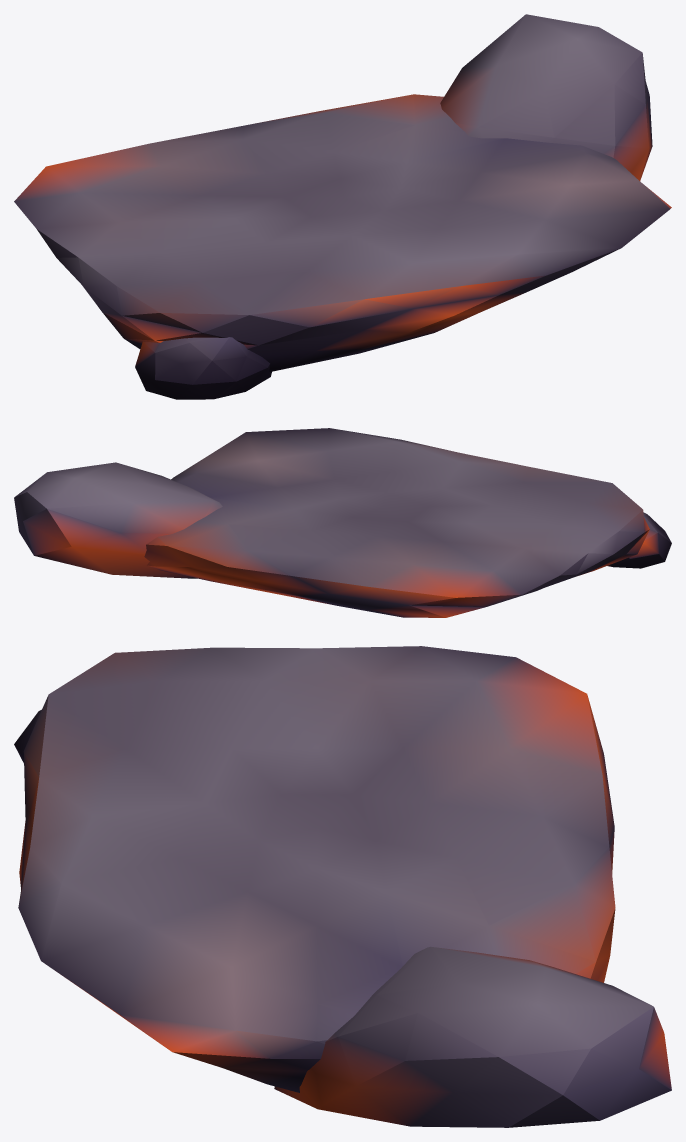
The model's file is ember_rock_slab_a.glb.
3 renders of one model, top to bottom at view 1: azimuth 30°, elevation 25°; view 2: azimuth 150°, elevation 25°; view 3: azimuth 270°, elevation 25°, orthographic. The views are drawn at different scales.
Parts seen in each view (by area): view 1: ember_rock_slab_a; view 2: ember_rock_slab_a; view 3: ember_rock_slab_a.
Boxes of the visible parts, bbox=[...] form: ember_rock_slab_a: bbox=[14, 14, 671, 399]; ember_rock_slab_a: bbox=[14, 428, 671, 617]; ember_rock_slab_a: bbox=[14, 646, 671, 1127].
Bounding box in the file's own units: 4.86 × 0.8014 × 3.12.
